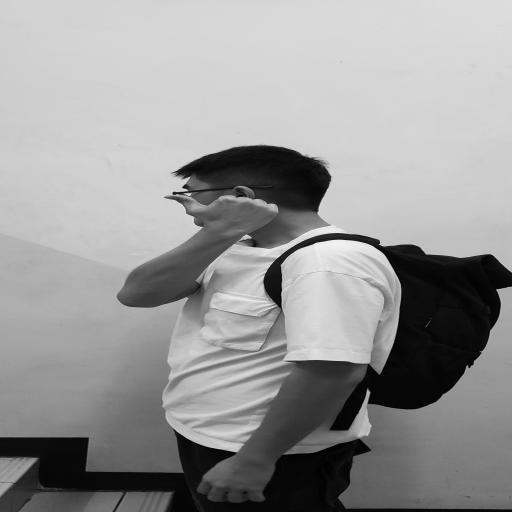back: (153, 185, 312, 243)
